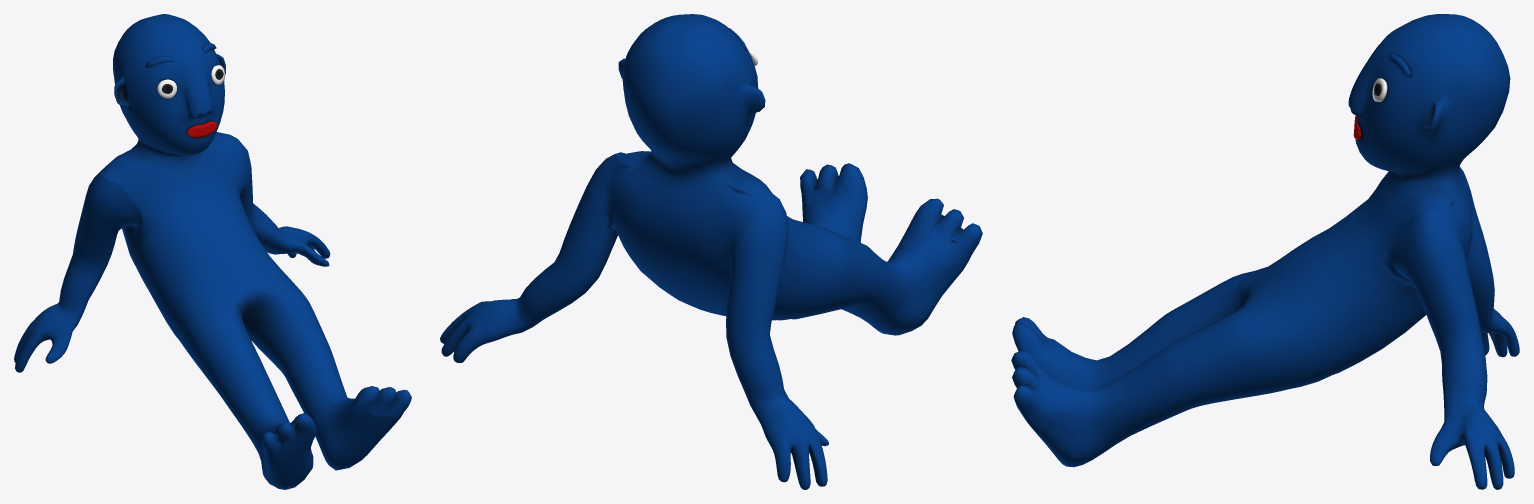
The model's file is creature-sitting.obj.
3 renders of one model, left to right at view 1: azimuth 30°, elevation 25°; view 2: azimuth 150°, elevation 25°; view 3: azimuth 270°, elevation 25°, orthographic. The views are drawn at different scales.
Visible parts, largest first — view 1: CreatureSitting; view 2: CreatureSitting; view 3: CreatureSitting.
Boxes of the visible parts, x1=… form: CreatureSitting: x1=14, y1=14, x2=411, y2=489; CreatureSitting: x1=440, y1=14, x2=982, y2=489; CreatureSitting: x1=1011, y1=14, x2=1519, y2=489.
Bounding box in the file's own units: 4.12 × 4.47 × 4.69.
Materials: 1 (1 with a texture image).
